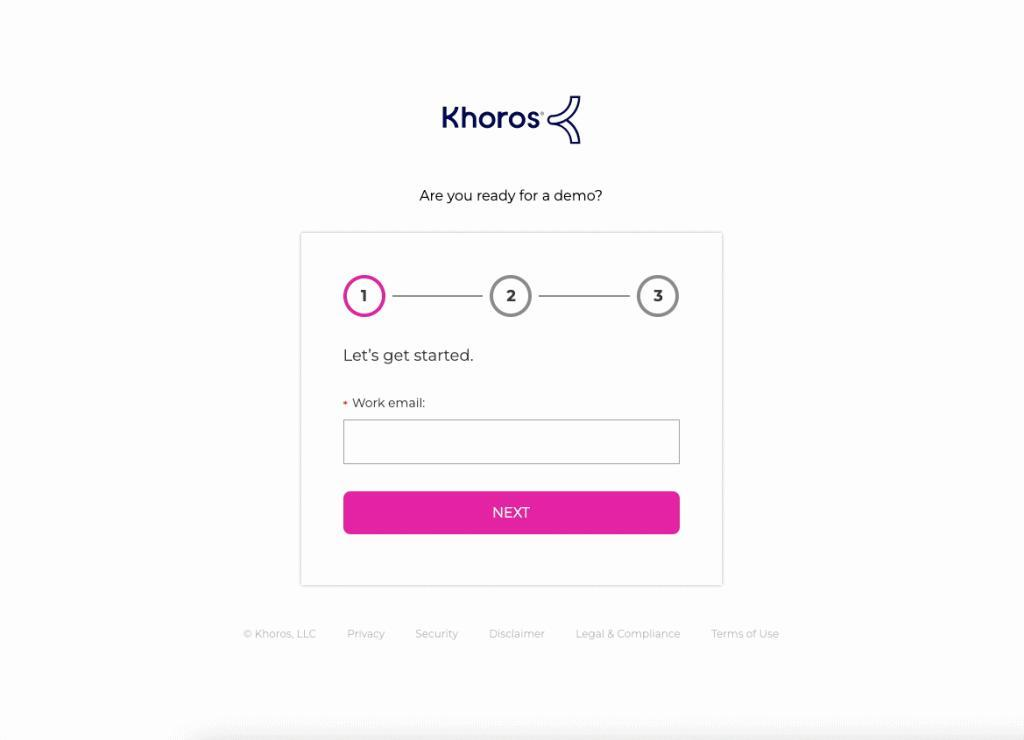button: (344, 489, 680, 538)
input: (343, 419, 680, 467)
label: (338, 392, 432, 415)
